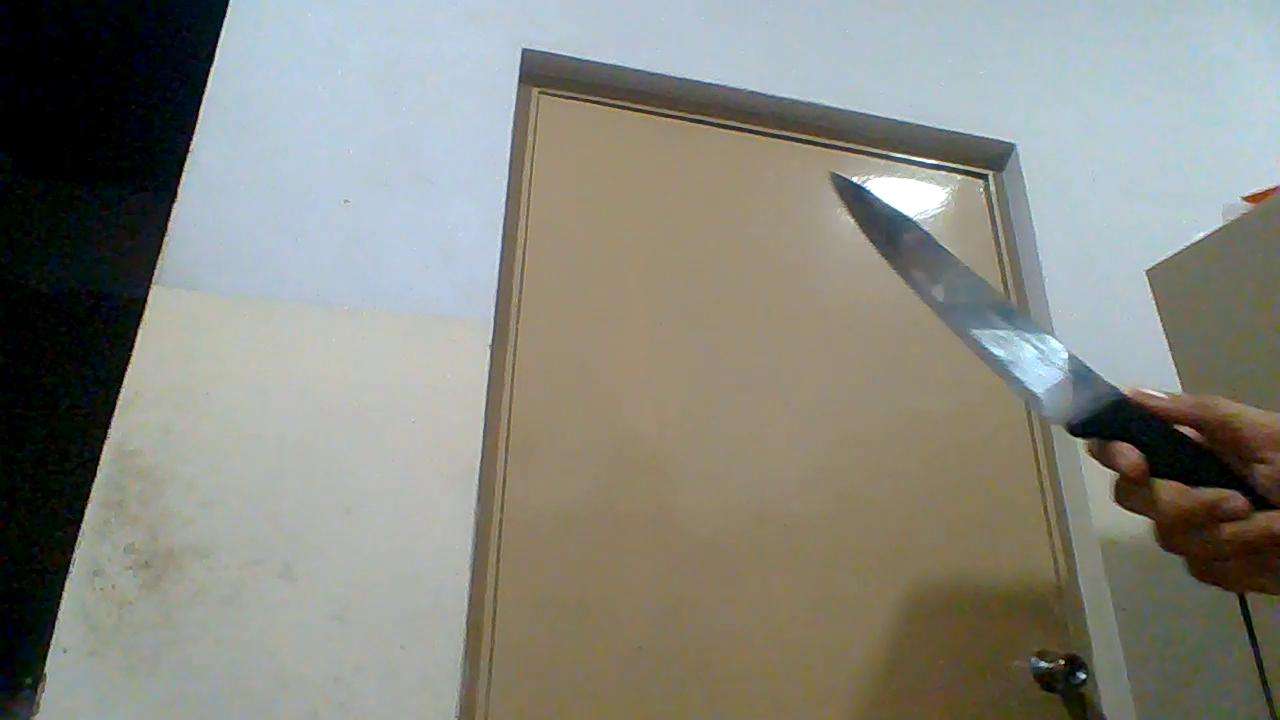weapon: (830, 169, 1262, 495)
